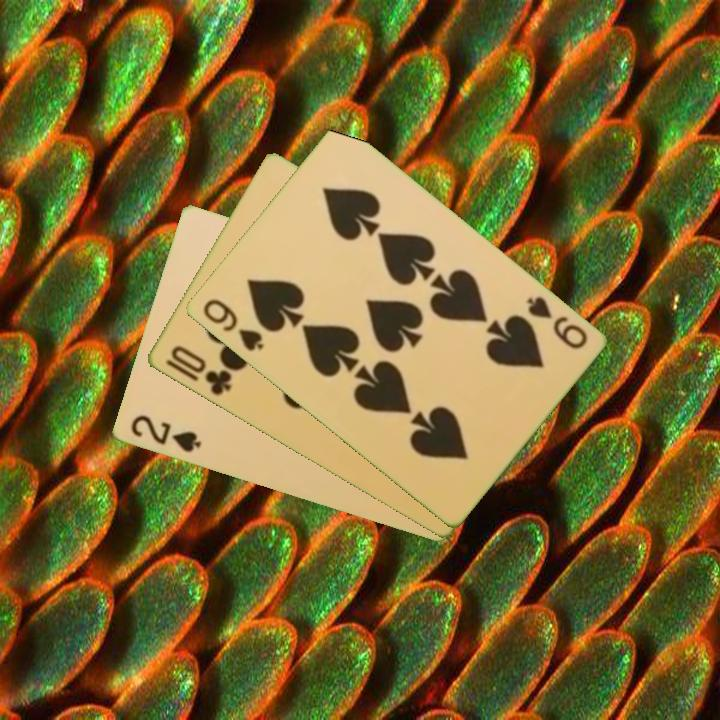10c: (167, 342, 234, 399)
2s: (127, 412, 204, 456)
9s: (199, 295, 267, 355), (522, 293, 590, 353)
